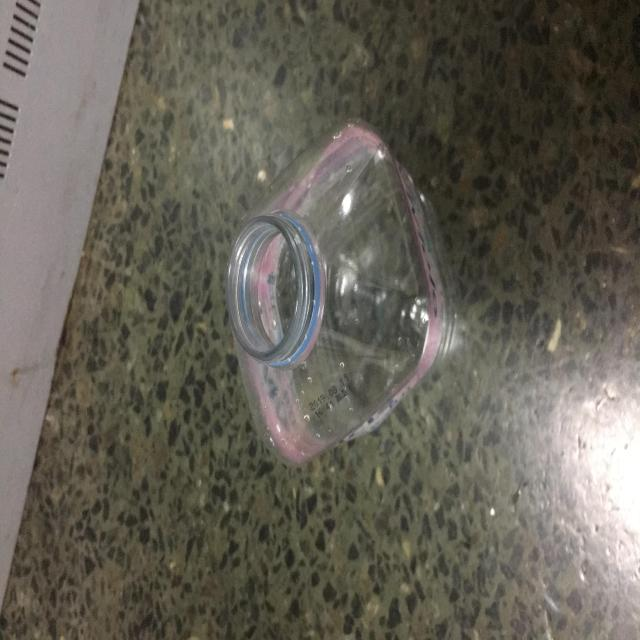bottle: (223, 116, 454, 472)
